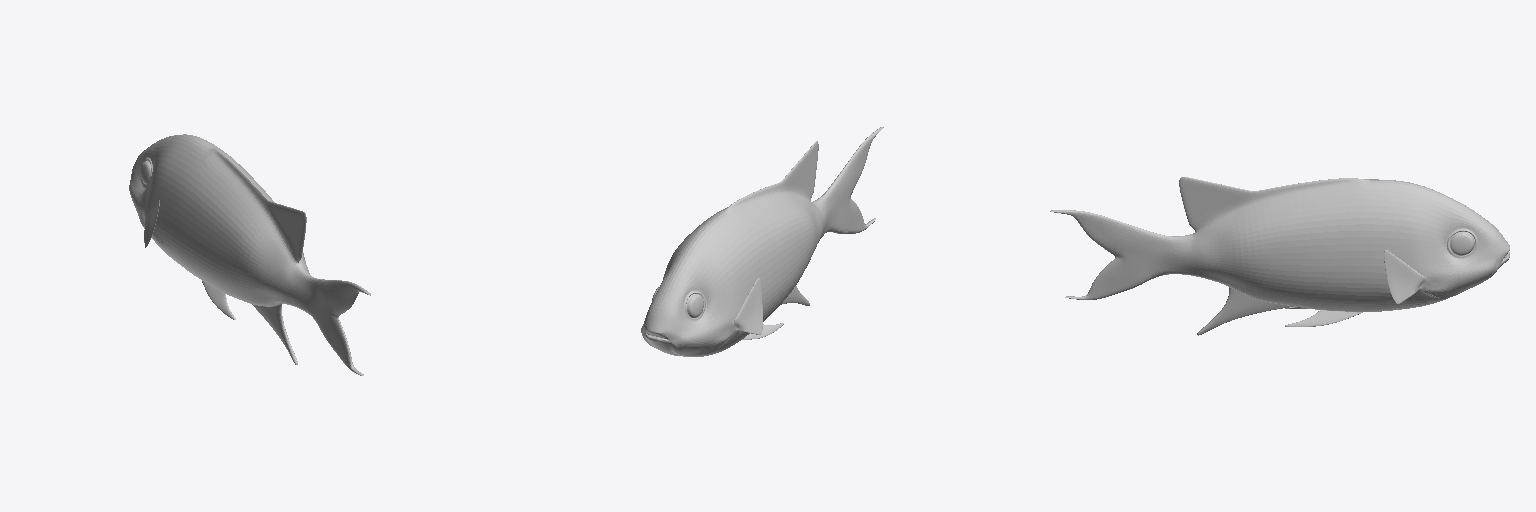
Rendered from fish.obj.
3 views of the same model, side by side, from view 1: azimuth 30°, elevation 25°; view 2: azimuth 150°, elevation 25°; view 3: azimuth 270°, elevation 25° (orthographic).
Parts seen in each view (by area): view 1: 13007_Blue-Green_Reef_Chromis_v2_l3; view 2: 13007_Blue-Green_Reef_Chromis_v2_l3; view 3: 13007_Blue-Green_Reef_Chromis_v2_l3.
Part boxes in pixels (x1,y1,x2,y2): 13007_Blue-Green_Reef_Chromis_v2_l3: (129, 134, 370, 375); 13007_Blue-Green_Reef_Chromis_v2_l3: (641, 127, 883, 356); 13007_Blue-Green_Reef_Chromis_v2_l3: (1050, 177, 1509, 335).
Bounding box in the file's own units: 0.6252 × 0.911 × 2.39.